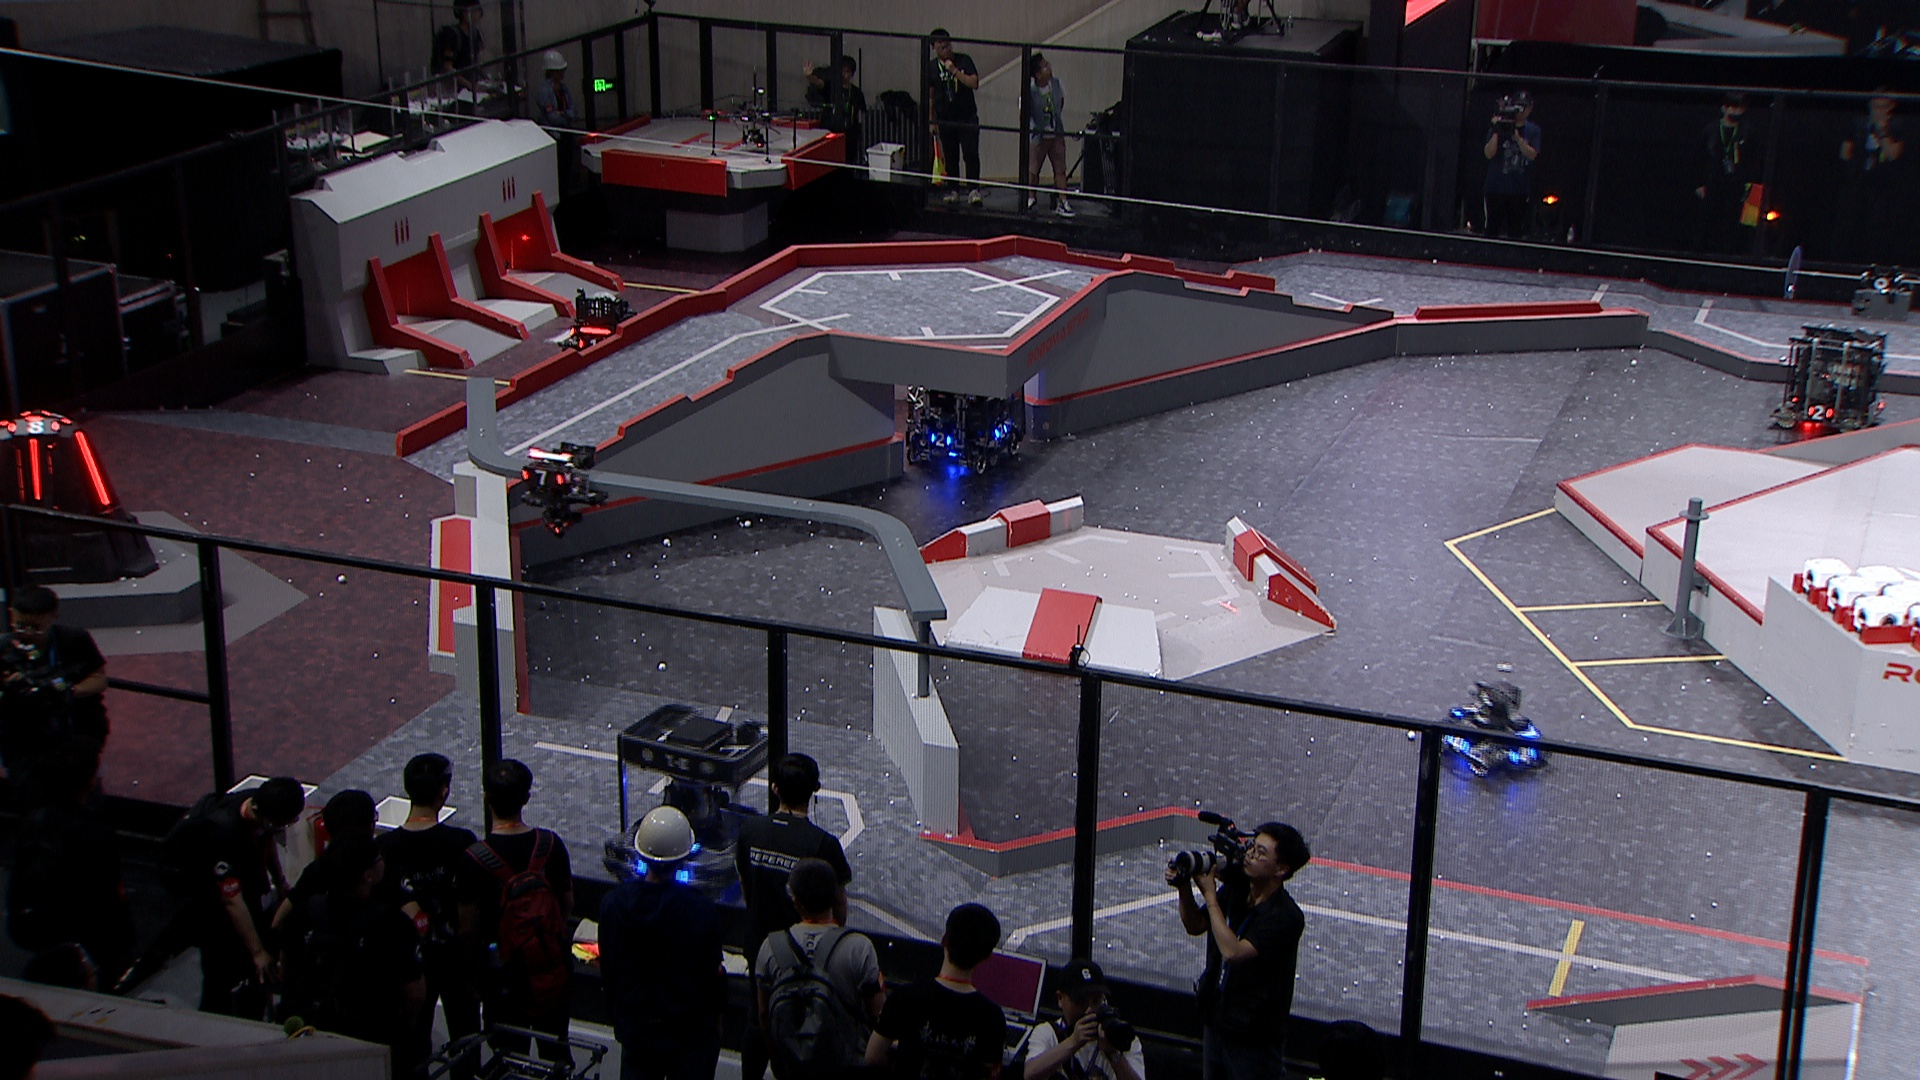armor: (74, 429, 109, 506), (26, 438, 44, 500), (8, 418, 57, 436), (522, 467, 562, 488), (1444, 732, 1470, 756), (1509, 742, 1538, 761), (1452, 699, 1482, 716), (1803, 404, 1832, 419), (576, 338, 599, 352), (928, 433, 949, 446), (994, 422, 1010, 438)
car: (595, 700, 790, 915), (899, 353, 1031, 479), (1764, 318, 1888, 438), (1429, 678, 1545, 782), (558, 285, 645, 371)
watcher: (516, 440, 612, 538)
